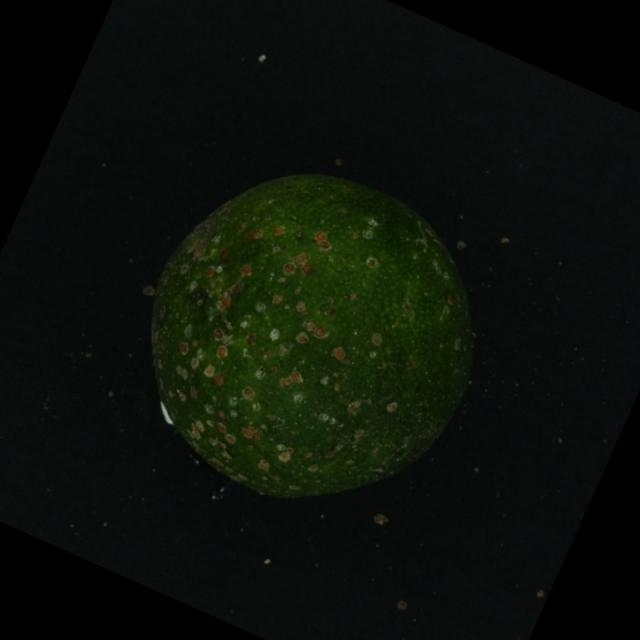grenning: (130, 150, 513, 532)
